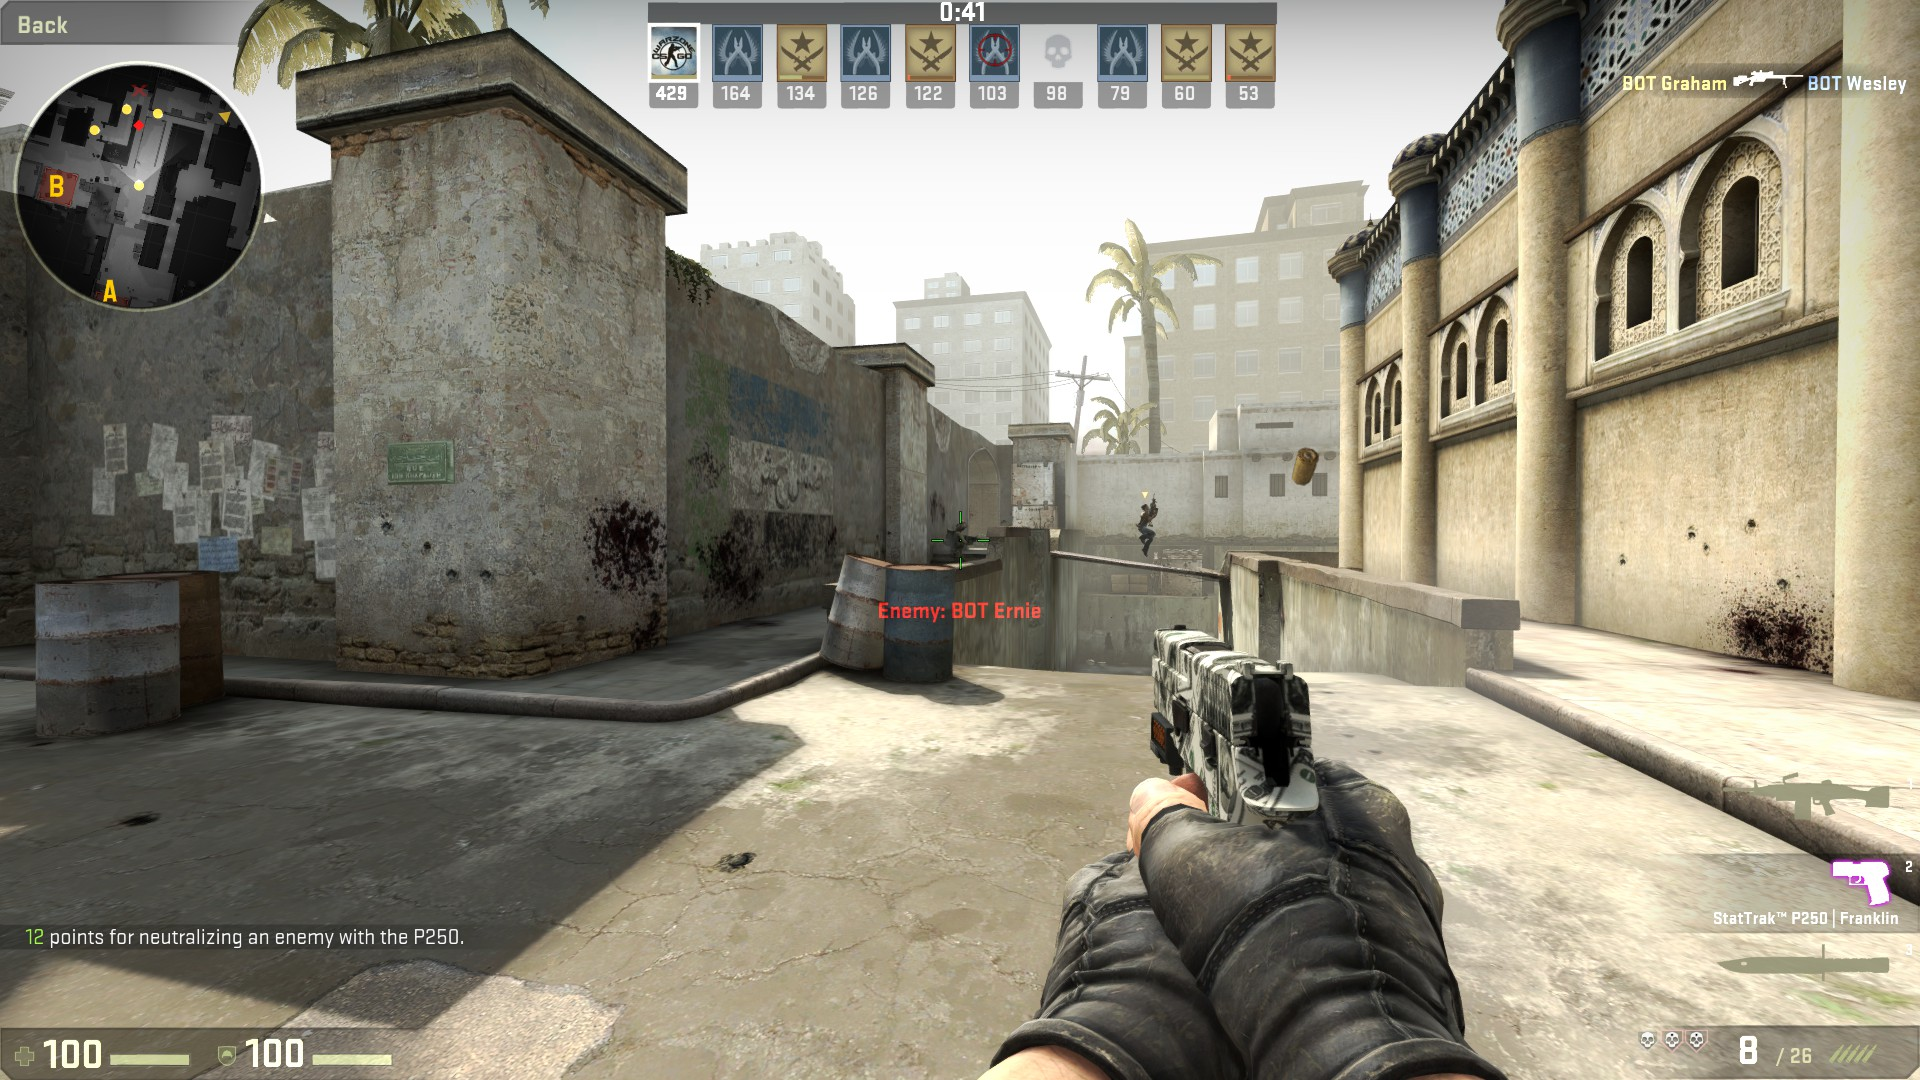c: (945, 520, 971, 570)
ch: (955, 518, 968, 531)
t: (1137, 502, 1155, 556)
th: (1141, 502, 1150, 514)
